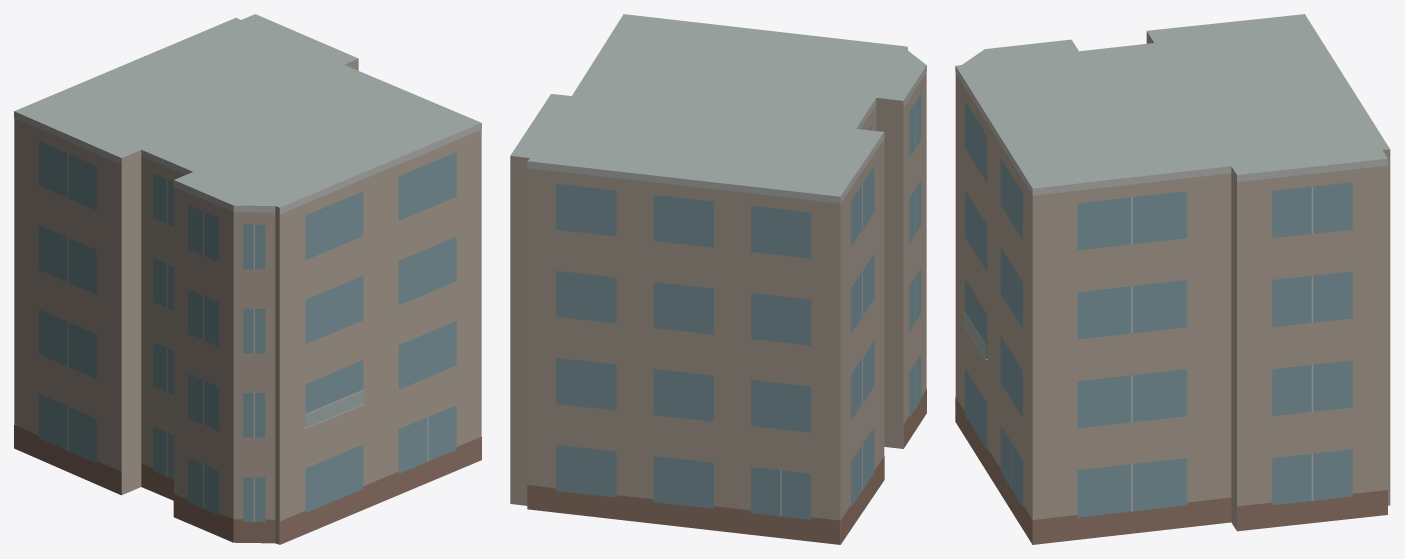
The model's file is survey-upis-32953460.glb.
The picture shows the model from 3 angles, left to right: view 1: azimuth 30°, elevation 25°; view 2: azimuth 150°, elevation 25°; view 3: azimuth 270°, elevation 25°; orthographic projection. The views are drawn at different scales.
Visible parts, largest first — view 1: survey-upis-32953460.tmp; view 2: survey-upis-32953460.tmp; view 3: survey-upis-32953460.tmp.
Boxes of the visible parts, left/top/right/bottom form: survey-upis-32953460.tmp: left=14, top=14, right=481, bottom=544; survey-upis-32953460.tmp: left=510, top=14, right=926, bottom=544; survey-upis-32953460.tmp: left=955, top=14, right=1390, bottom=544.
Size of the model in its own units: 12.99 by 12.34 by 13.66.
